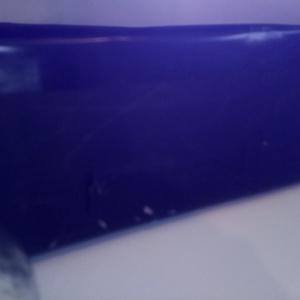zone: (1, 25, 300, 267)
